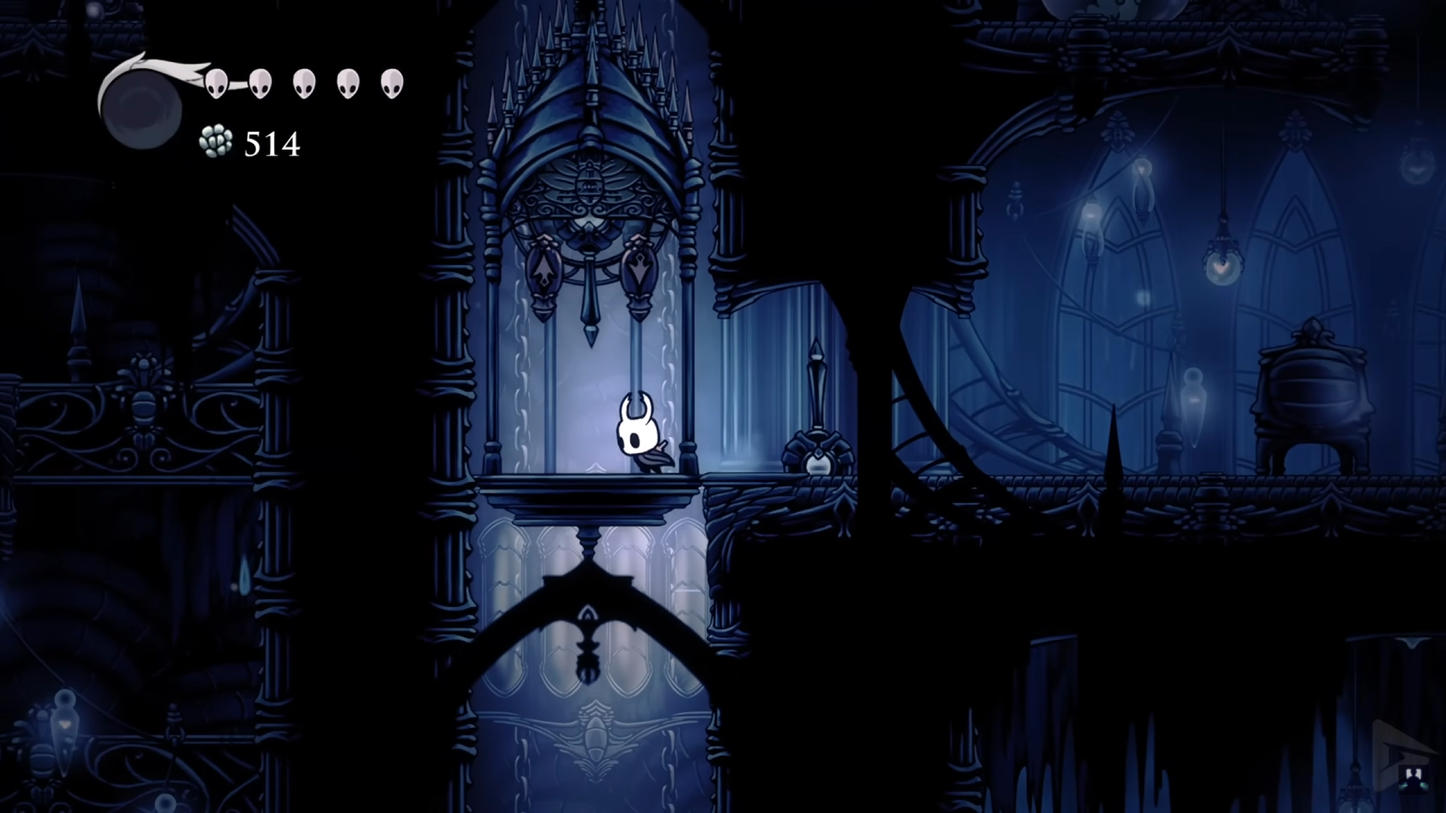HK: (611, 389, 673, 477)
